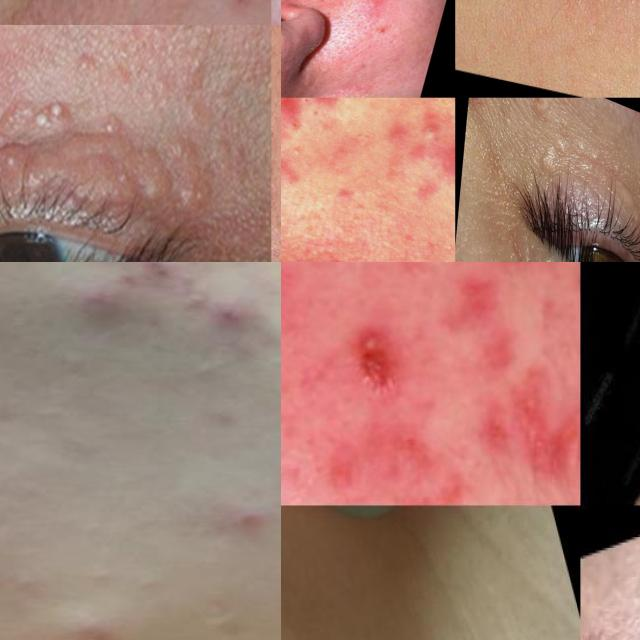acne_scars: (494, 354, 581, 485), (424, 263, 508, 342), (451, 392, 515, 458), (320, 433, 380, 497), (387, 418, 431, 476), (557, 262, 580, 306), (281, 478, 290, 505)
comedone: (44, 349, 120, 386), (0, 556, 59, 599), (186, 353, 240, 387)
milium: (28, 86, 90, 130), (0, 135, 24, 163)
papule: (49, 596, 161, 640), (205, 282, 281, 333), (80, 274, 132, 337), (210, 518, 281, 562), (294, 98, 363, 119), (355, 0, 402, 17)
pustule: (406, 112, 454, 150)
sebo-crystan-conglo: (338, 302, 402, 398), (281, 97, 292, 107)
syringoma: (524, 103, 621, 214), (162, 130, 237, 202), (103, 147, 173, 203), (9, 154, 82, 197), (617, 187, 640, 250), (626, 143, 640, 199)
